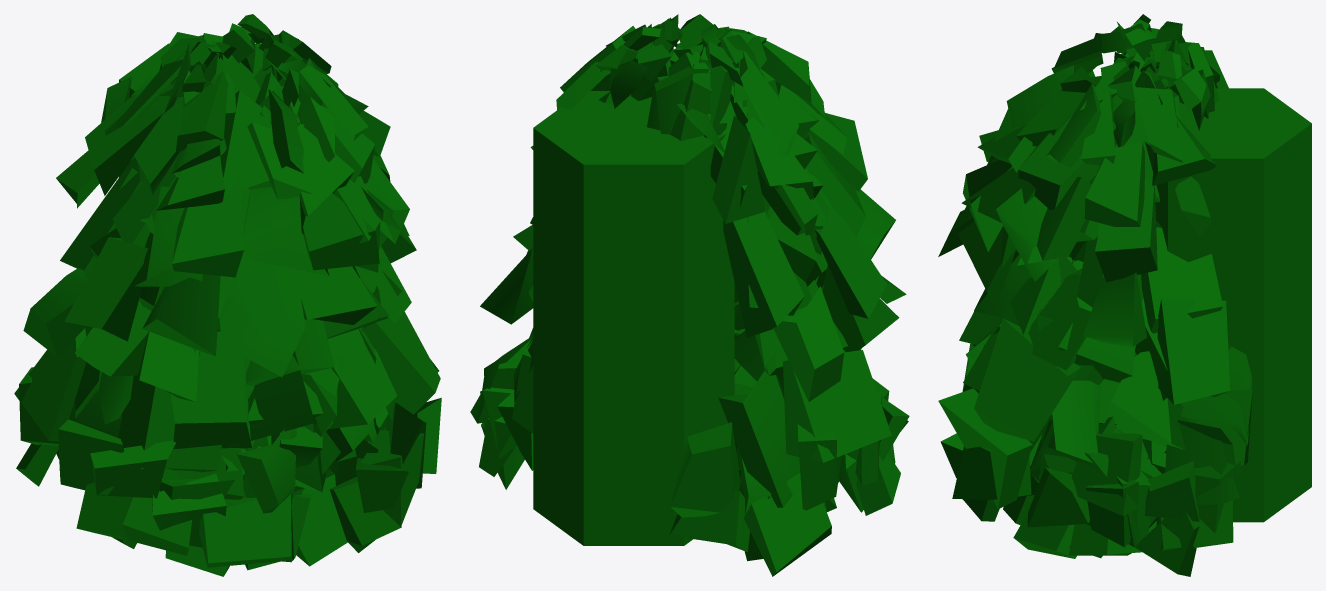
Rendered from bush.fbx.
3 renders of one model, left to right at view 1: azimuth 30°, elevation 25°; view 2: azimuth 150°, elevation 25°; view 3: azimuth 270°, elevation 25°, orthographic. The views are drawn at different scales.
Visible parts, largest first — view 1: tree; view 2: tree; view 3: tree.
Boxes of the visible parts, x1=… form: tree: x1=14, y1=14, x2=441, y2=576; tree: x1=470, y1=14, x2=909, y2=576; tree: x1=938, y1=14, x2=1311, y2=576.
Bounding box in the file's own units: 325 × 413 × 290.
